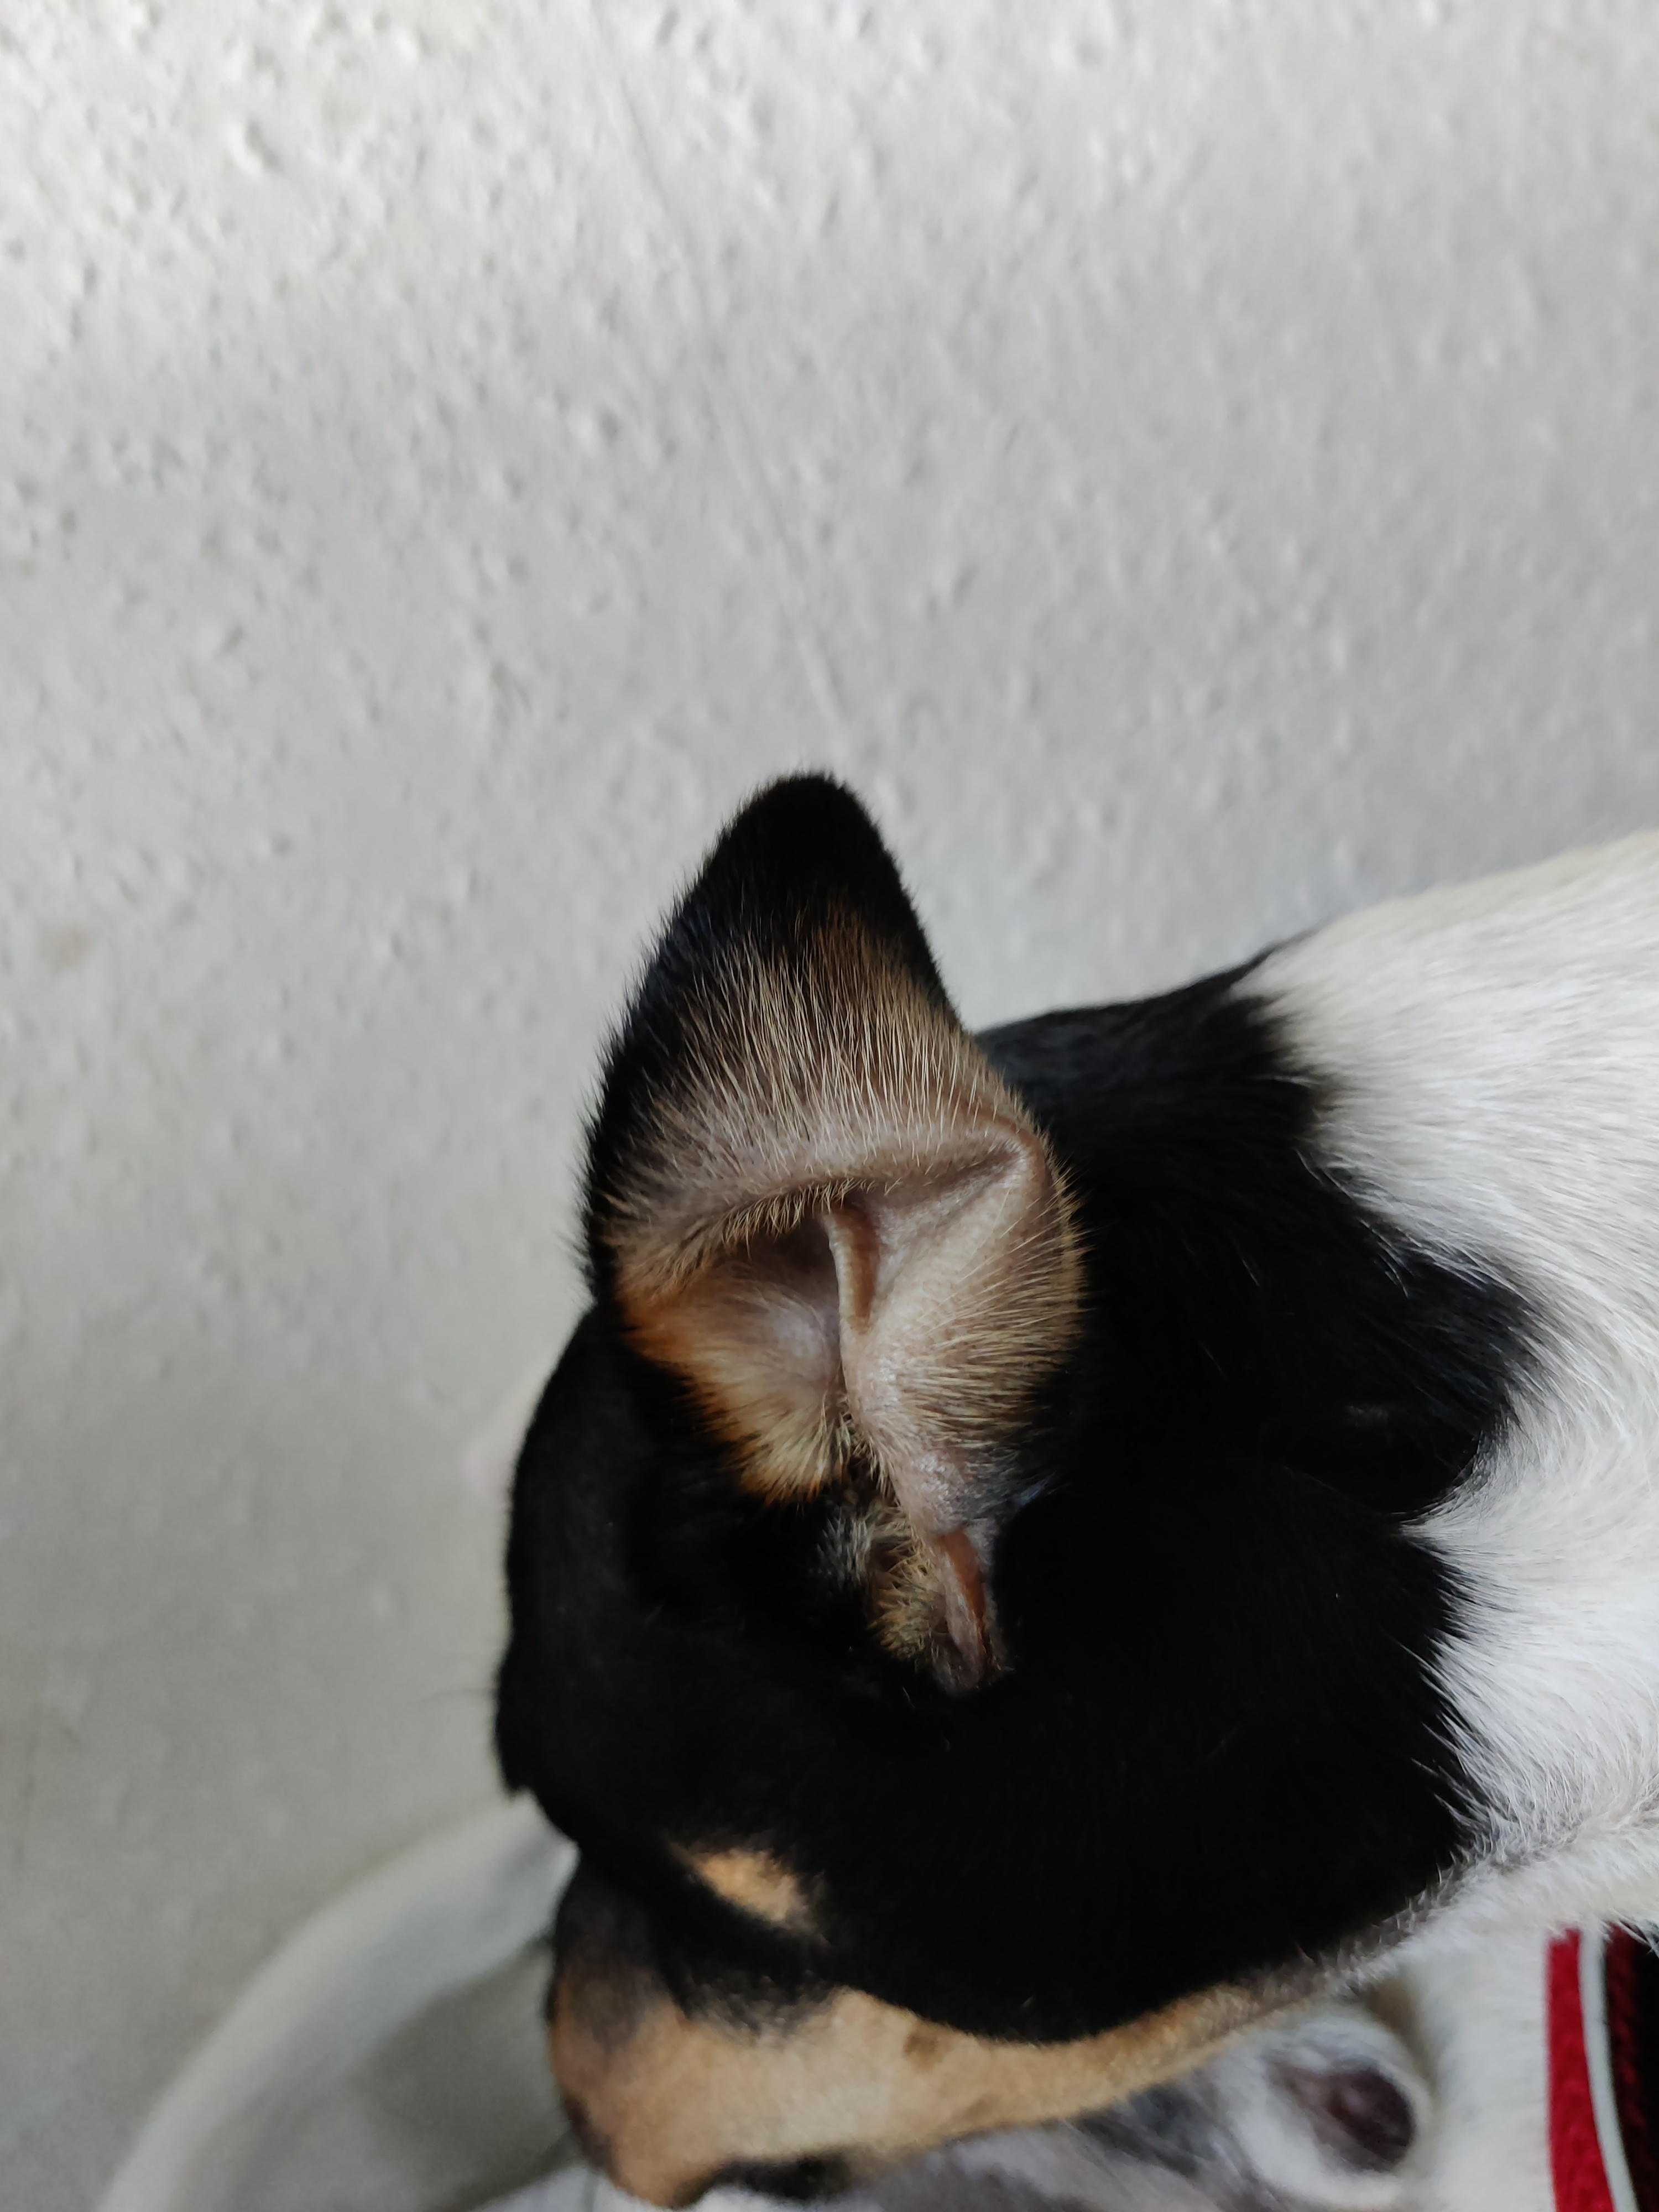Dog: (87, 745, 1659, 2212)
